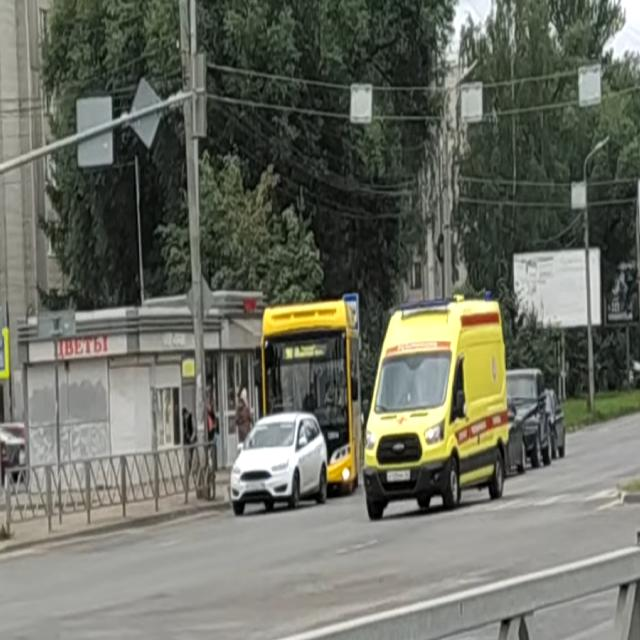intensive care unit: (366, 305, 507, 521)
non emergency car: (260, 304, 363, 497), (231, 415, 328, 517)
